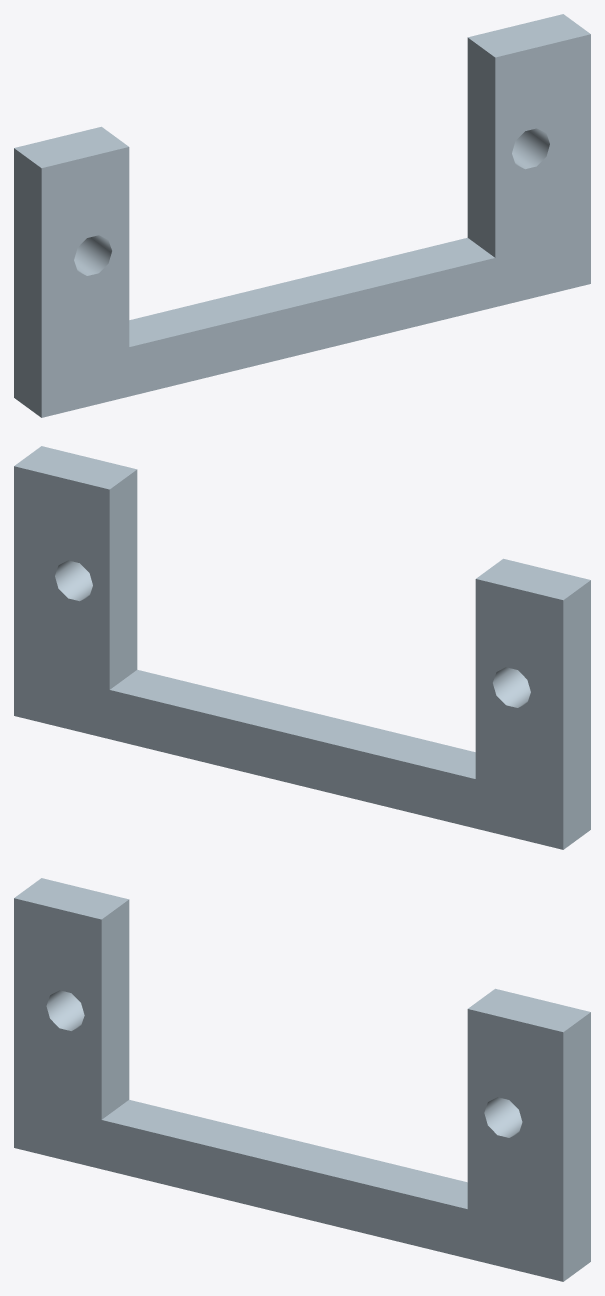
Rendered from prt0014.obj.
3 views of the same model, one above another, from view 1: azimuth 30°, elevation 25°; view 2: azimuth 150°, elevation 25°; view 3: azimuth 330°, elevation 25° (orthographic).
Parts seen in each view (by area): view 1: 1; view 2: 1; view 3: 1.
Part boxes in pixels (x1,y1,x2,y2): 1: (14,14,590,417); 1: (14,446,590,849); 1: (14,878,590,1281).
Size of the model in its own units: 34.5 by 14.98 by 3.
